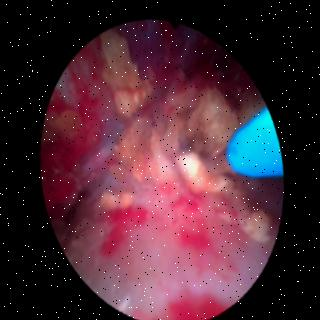fiber: (228, 107, 278, 170)
stone: (108, 85, 239, 180), (101, 29, 152, 113), (177, 150, 226, 189), (41, 109, 80, 141), (239, 207, 269, 238), (98, 190, 128, 208)
